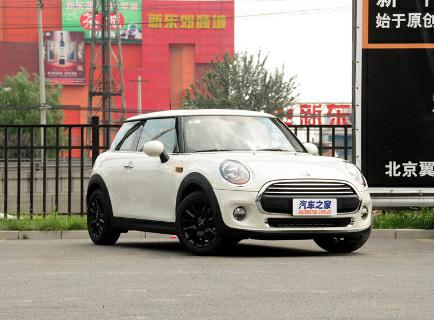MINI: (82, 106, 378, 262)
